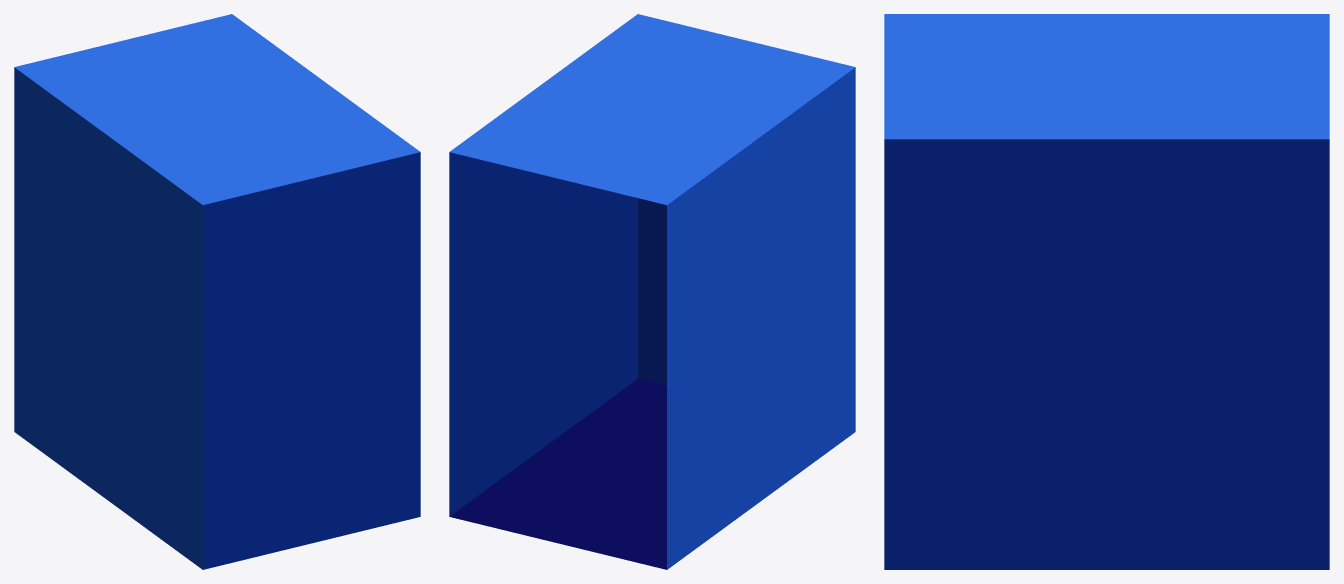
Rendered from wall_end_up.glb.
3 views of the same model, side by side, from view 1: azimuth 30°, elevation 25°; view 2: azimuth 150°, elevation 25°; view 3: azimuth 270°, elevation 25° (orthographic). The views are drawn at different scales.
Parts seen in each view (by area): view 1: wall_end_up; view 2: wall_end_up; view 3: wall_end_up.
Boxes of the visible parts, <box> form: wall_end_up: <box>14,14,420,569</box>; wall_end_up: <box>449,14,855,569</box>; wall_end_up: <box>884,14,1329,569</box>.
Bounding box in the file's own units: 0.5 × 0.8 × 0.75.
